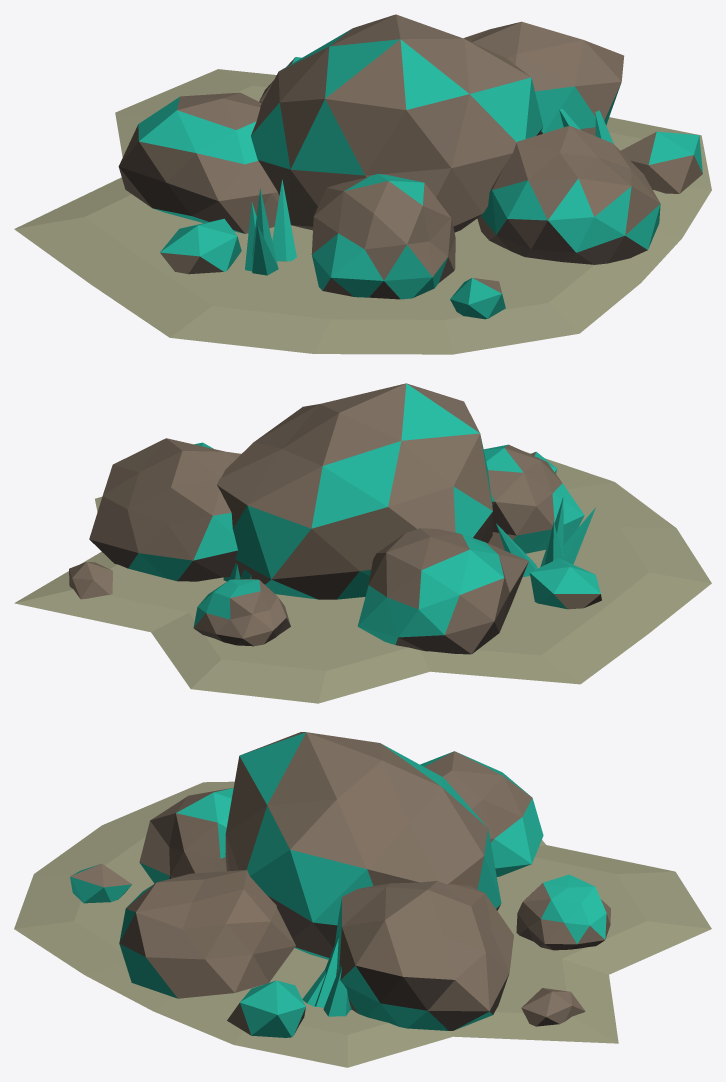
The model's file is ore_copper.glb.
3 renders of one model, top to bottom at view 1: azimuth 30°, elevation 25°; view 2: azimuth 150°, elevation 25°; view 3: azimuth 270°, elevation 25°, orthographic. The views are drawn at different scales.
Visible parts, largest first — view 1: ore_copper; view 2: ore_copper; view 3: ore_copper.
Boxes of the visible parts, x1,y1,x2,y2 form: ore_copper: [14, 14, 711, 354]; ore_copper: [14, 383, 711, 703]; ore_copper: [14, 732, 711, 1067].
Size of the model in its own units: 3.13 by 0.947 by 3.21.
